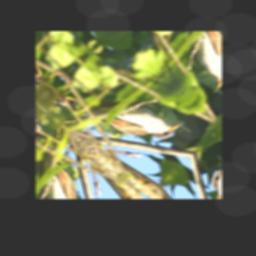Cuckoo: (48, 51, 186, 175)
